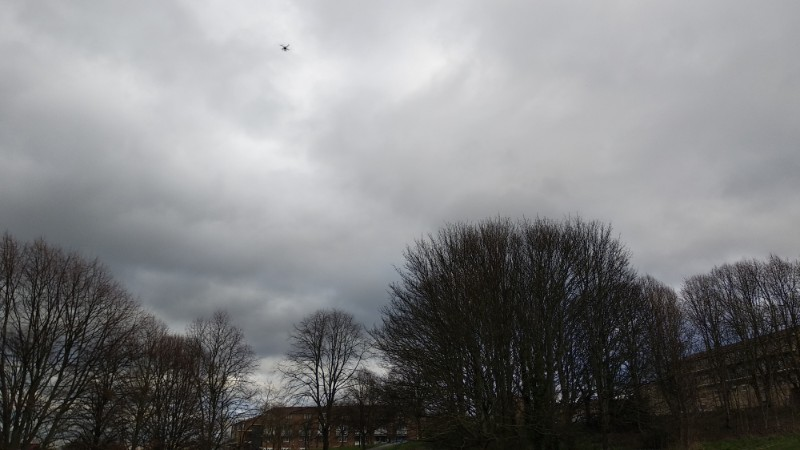drone: (275, 41, 294, 54)
